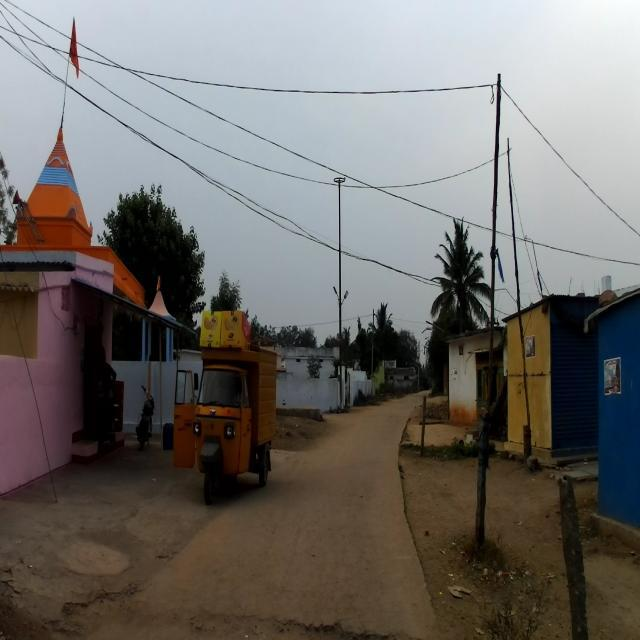pothole: (142, 591, 430, 640), (56, 548, 118, 640)
